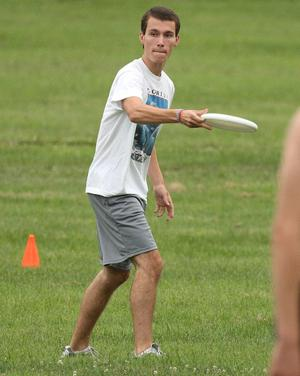person: (62, 7, 211, 356)
